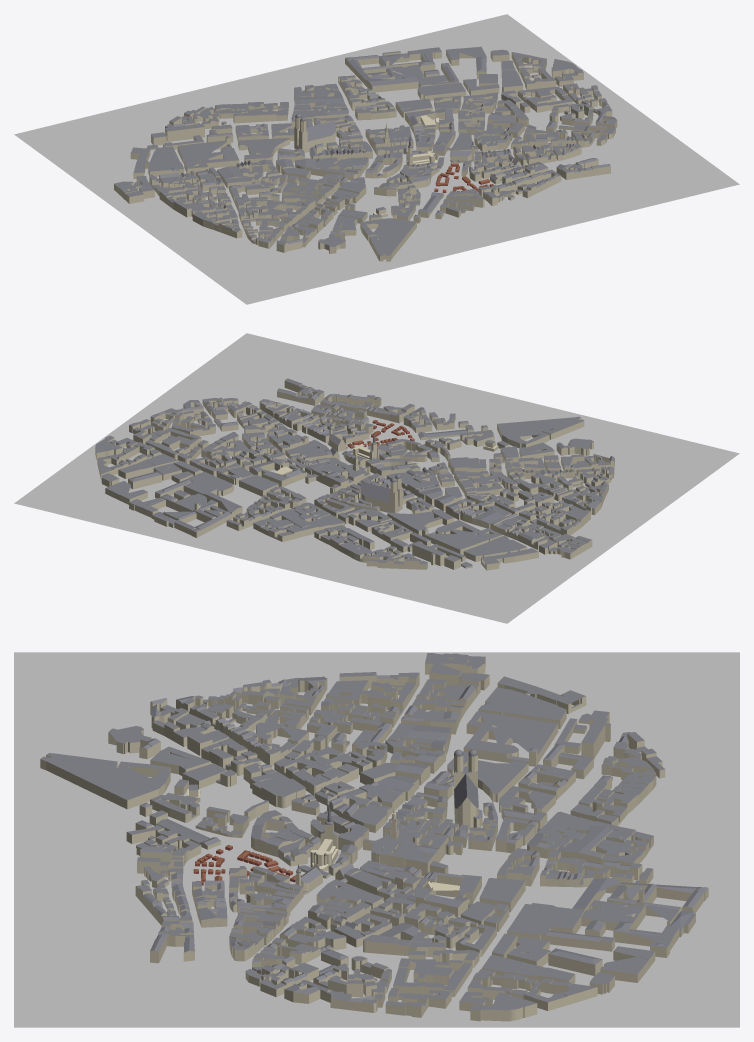
Rendered from munich.glb.
3 renders of one model, top to bottom at view 1: azimuth 30°, elevation 25°; view 2: azimuth 150°, elevation 25°; view 3: azimuth 270°, elevation 25°, orthographic. The views are drawn at different scales.
Visible parts, largest first — view 1: ground, element.1346, element.1364, element.1359, Neues Rathaus, Frauenkirche, element.071, Polizeipräsidium München, Bayerisches Nationaltheater, Justizgebäude Pacellistraße; view 2: ground, element.1346, element.1364, Neues Rathaus, element.1359, Frauenkirche, element.071, Polizeipräsidium München, Bayerisches Nationaltheater, Palais Toerring-Jettenbach; view 3: ground, element.1346, element.1364, Neues Rathaus, element.1359, element.071, Frauenkirche, Polizeipräsidium München, element.1347, Bayerisches Nationaltheater, Regus - München Fünf Höfe, Palais Toerring-Jettenbach (+19 smaller).
Part boxes in pixels (bbox=[...]): ground: bbox=[14, 14, 739, 304]; element.1346: bbox=[345, 47, 441, 92]; element.1364: bbox=[369, 218, 416, 261]; element.1359: bbox=[177, 140, 226, 173]; Neues Rathaus: bbox=[365, 122, 413, 155]; Frauenkirche: bbox=[294, 113, 335, 152]; element.071: bbox=[148, 146, 184, 176]; Polizeipräsidium München: bbox=[238, 138, 289, 155]; Bayerisches Nationaltheater: bbox=[417, 82, 466, 100]; Justizgebäude Pacellistraße: bbox=[165, 123, 204, 141]; ground: bbox=[14, 333, 739, 623]; element.1346: bbox=[129, 490, 242, 537]; element.1364: bbox=[497, 416, 584, 442]; Neues Rathaus: bbox=[305, 450, 370, 493]; element.1359: bbox=[425, 524, 502, 554]; Frauenkirche: bbox=[358, 474, 402, 513]; element.071: bbox=[463, 535, 527, 561]; Polizeipräsidium München: bbox=[387, 511, 442, 535]; Bayerisches Nationaltheater: bbox=[188, 471, 234, 495]; Palais Toerring-Jettenbach: bbox=[239, 474, 274, 496]; ground: bbox=[14, 652, 739, 1027]; element.1346: bbox=[572, 878, 708, 957]; element.1364: bbox=[40, 753, 165, 809]; Neues Rathaus: bbox=[363, 806, 462, 876]; element.1359: bbox=[466, 711, 558, 763]; element.071: bbox=[478, 687, 566, 729]; Frauenkirche: bbox=[454, 749, 482, 829]; Polizeipräsidium München: bbox=[463, 760, 528, 802]; element.1347: bbox=[470, 992, 537, 1021]; Bayerisches Nationaltheater: bbox=[507, 903, 556, 940]; Regus - München Fünf Höfe: bbox=[556, 825, 613, 863]; Palais Toerring-Jettenbach: bbox=[479, 878, 525, 912].
Bounding box in the file's own units: 1475 × 98.57 × 1206.
